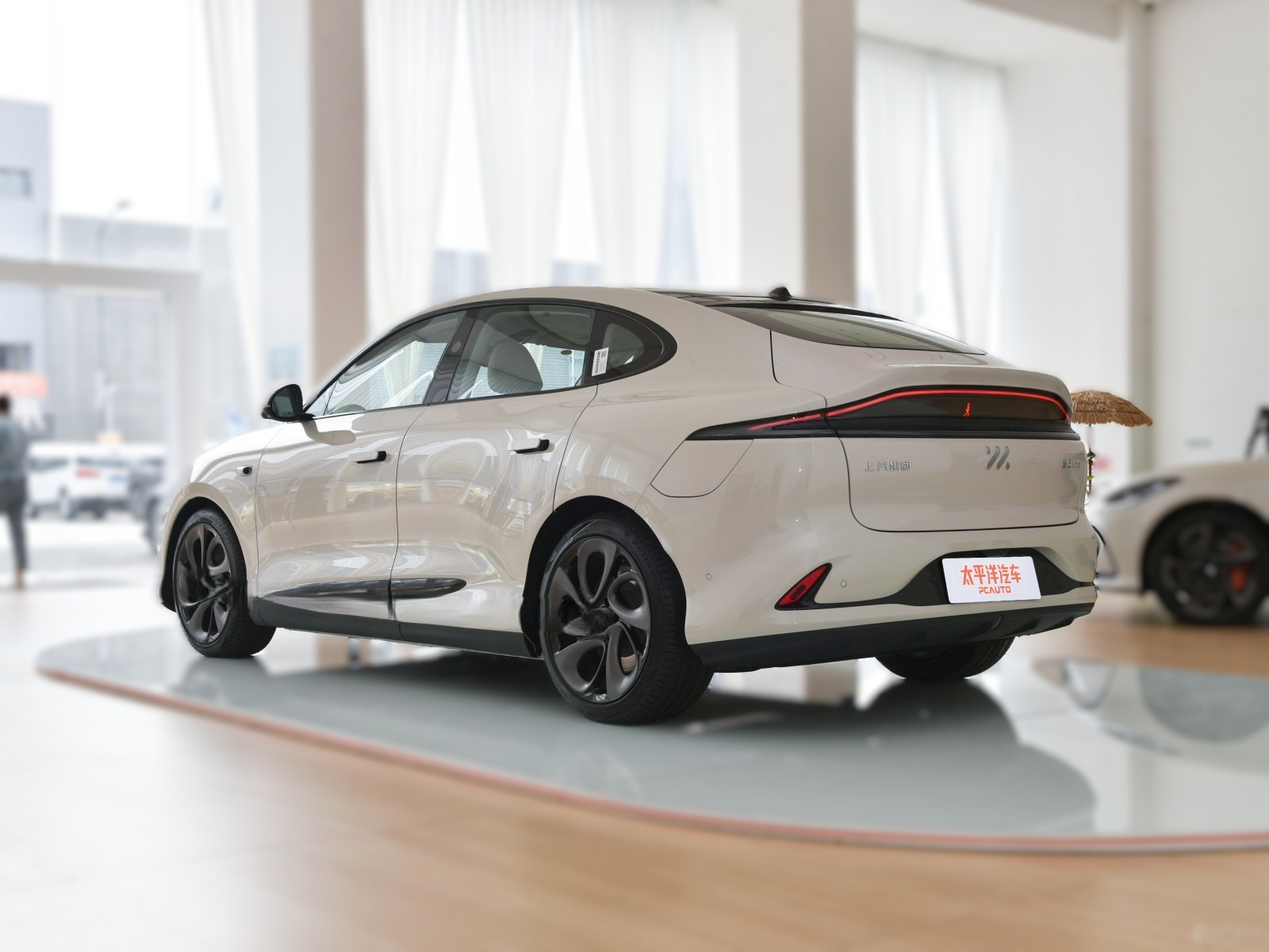IM: (985, 446, 1009, 469)
